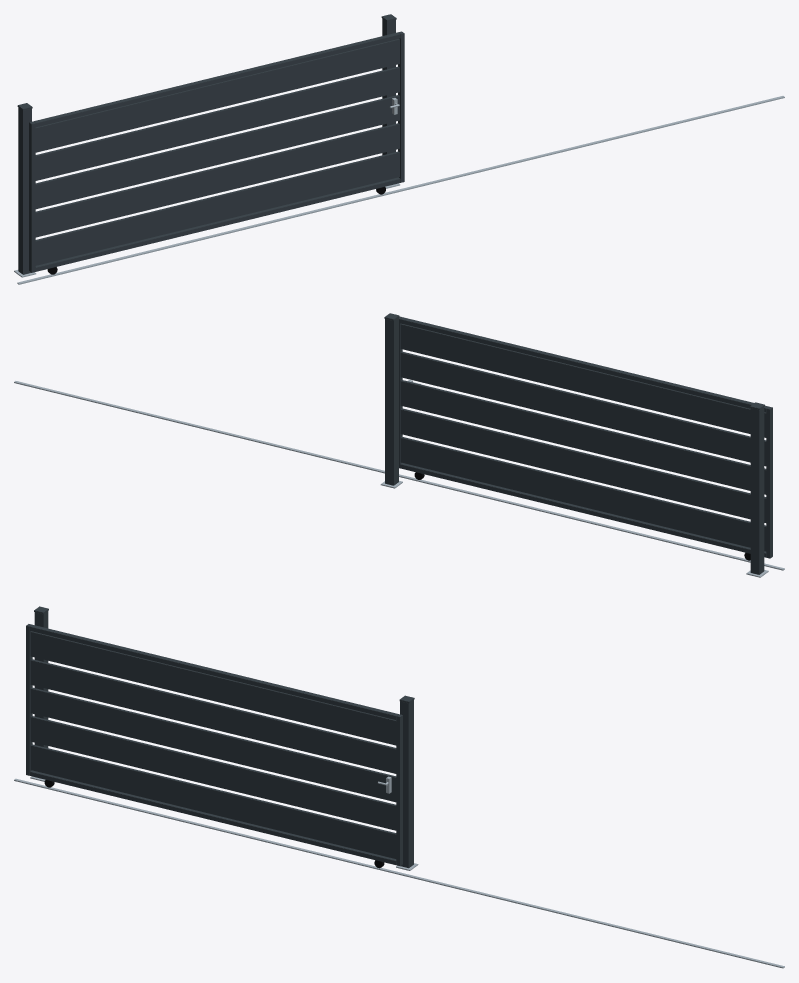
Rendered from 14-klizna.glb.
3 renders of one model, top to bottom at view 1: azimuth 30°, elevation 25°; view 2: azimuth 150°, elevation 25°; view 3: azimuth 330°, elevation 25°, orthographic.
Visible parts, largest first — view 1: Ispuna_horizontalna.248, Ispuna_horizontalna.245, Ispuna_horizontalna.246, Ispuna_horizontalna.247, Ispuna_horizontalna.249, Ram_gornji.044, Okov_vodilica_demo.013, Ram_donji.044, Stub_levi.055, Ram_bocni.098, Ram_bocni.099; view 2: Ispuna_horizontalna.246, Ispuna_horizontalna.245, Ispuna_horizontalna.247, Ispuna_horizontalna.248, Ispuna_horizontalna.249, Ram_gornji.044, Okov_vodilica_demo.013, Stub_levi.055, Ram_donji.044, Stub_desni.055, Ram_bocni.098; view 3: Ispuna_horizontalna.248, Ispuna_horizontalna.245, Ispuna_horizontalna.246, Ispuna_horizontalna.247, Ispuna_horizontalna.249, Ram_gornji.044, Okov_vodilica_demo.013, Ram_donji.044, Stub_desni.055, Ram_bocni.099, Ram_bocni.098.
Boxes of the visible parts, left/top/right/bottom form: Ispuna_horizontalna.248: left=35, top=66, right=399, bottom=180; Ispuna_horizontalna.245: left=35, top=151, right=399, bottom=265; Ispuna_horizontalna.246: left=35, top=123, right=399, bottom=237; Ispuna_horizontalna.247: left=35, top=95, right=399, bottom=209; Ispuna_horizontalna.249: left=35, top=39, right=399, bottom=152; Ram_gornji.044: left=33, top=32, right=400, bottom=127; Okov_vodilica_demo.013: left=17, top=96, right=784, bottom=284; Ram_donji.044: left=35, top=177, right=400, bottom=271; Stub_levi.055: left=18, top=107, right=31, bottom=274; Ram_bocni.098: left=29, top=121, right=35, bottom=272; Ram_bocni.099: left=398, top=31, right=404, bottom=182; Ispuna_horizontalna.246: left=400, top=408, right=766, bottom=522; Ispuna_horizontalna.245: left=400, top=436, right=766, bottom=551; Ispuna_horizontalna.247: left=400, top=380, right=766, bottom=494; Ispuna_horizontalna.248: left=400, top=351, right=766, bottom=466; Ispuna_horizontalna.249: left=400, top=323, right=766, bottom=437; Ram_gornji.044: left=400, top=317, right=768, bottom=412; Okov_vodilica_demo.013: left=14, top=381, right=784, bottom=570; Stub_levi.055: left=750, top=407, right=764, bottom=574; Ram_donji.044: left=400, top=463, right=766, bottom=557; Stub_desni.055: left=385, top=317, right=398, bottom=485; Ram_bocni.098: left=766, top=406, right=772, bottom=558; Ispuna_horizontalna.248: left=30, top=659, right=396, bottom=773; Ispuna_horizontalna.245: left=30, top=744, right=396, bottom=858; Ispuna_horizontalna.246: left=30, top=716, right=396, bottom=830; Ispuna_horizontalna.247: left=30, top=687, right=396, bottom=802; Ispuna_horizontalna.249: left=30, top=631, right=396, bottom=745; Ram_gornji.044: left=30, top=625, right=398, bottom=719; Okov_vodilica_demo.013: left=14, top=778, right=784, bottom=968; Ram_donji.044: left=30, top=770, right=396, bottom=864; Stub_desni.055: left=400, top=700, right=413, bottom=868; Ram_bocni.099: left=396, top=714, right=402, bottom=865; Ram_bocni.098: left=26, top=624, right=32, bottom=775.
Bounding box in the file's own units: 8.63 × 1.8 × 0.38.
